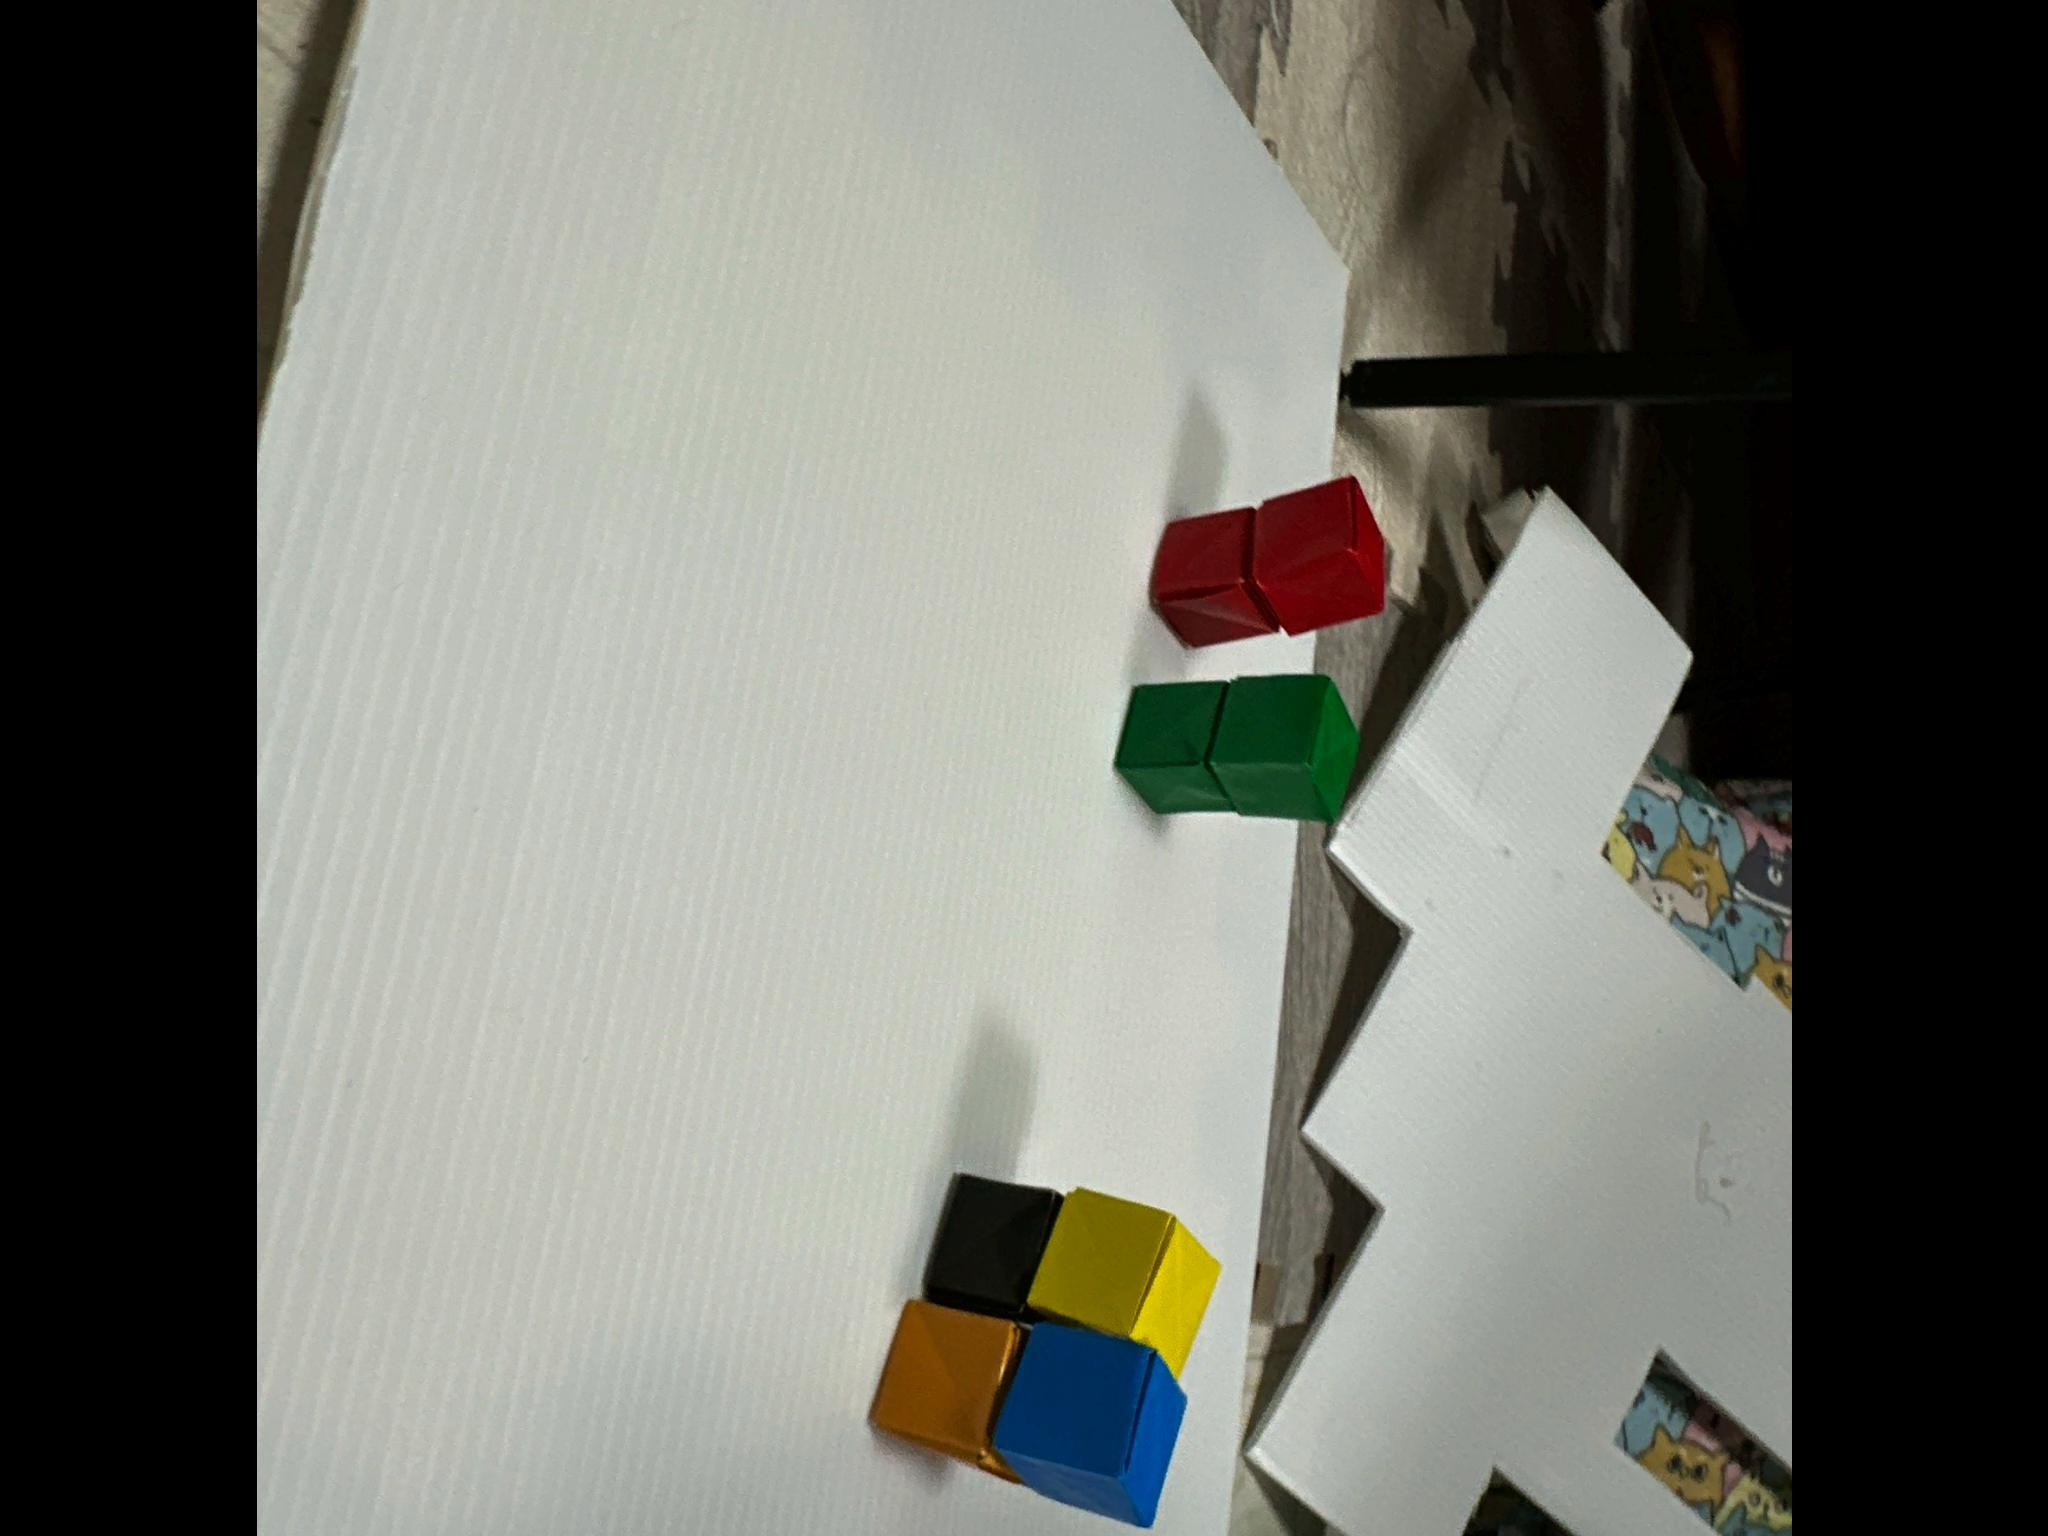cube: (992, 1323, 1184, 1528), (1024, 1187, 1219, 1379), (871, 1300, 1027, 1484), (1208, 676, 1358, 821), (1253, 478, 1384, 636), (926, 1178, 1059, 1318), (1153, 511, 1276, 647), (1116, 682, 1232, 813)
